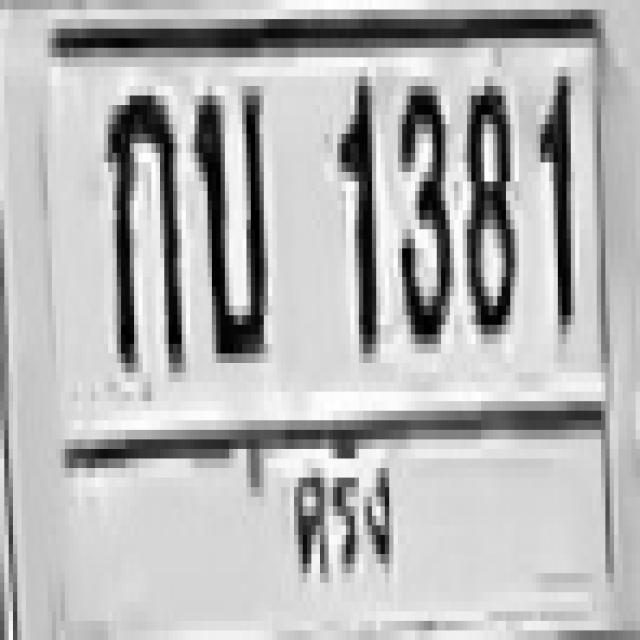1: (333, 72, 372, 348), (536, 67, 571, 325)
10GorGai: (104, 86, 182, 363)
3: (396, 76, 448, 334)
35BorBaiMai: (190, 76, 264, 354)
8: (463, 76, 510, 325)
Trang: (278, 422, 407, 600)
